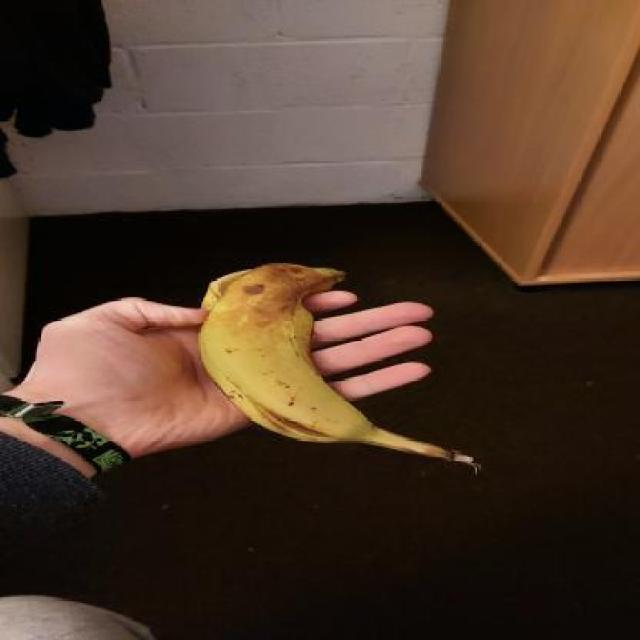banana-peel: (195, 259, 482, 477)
